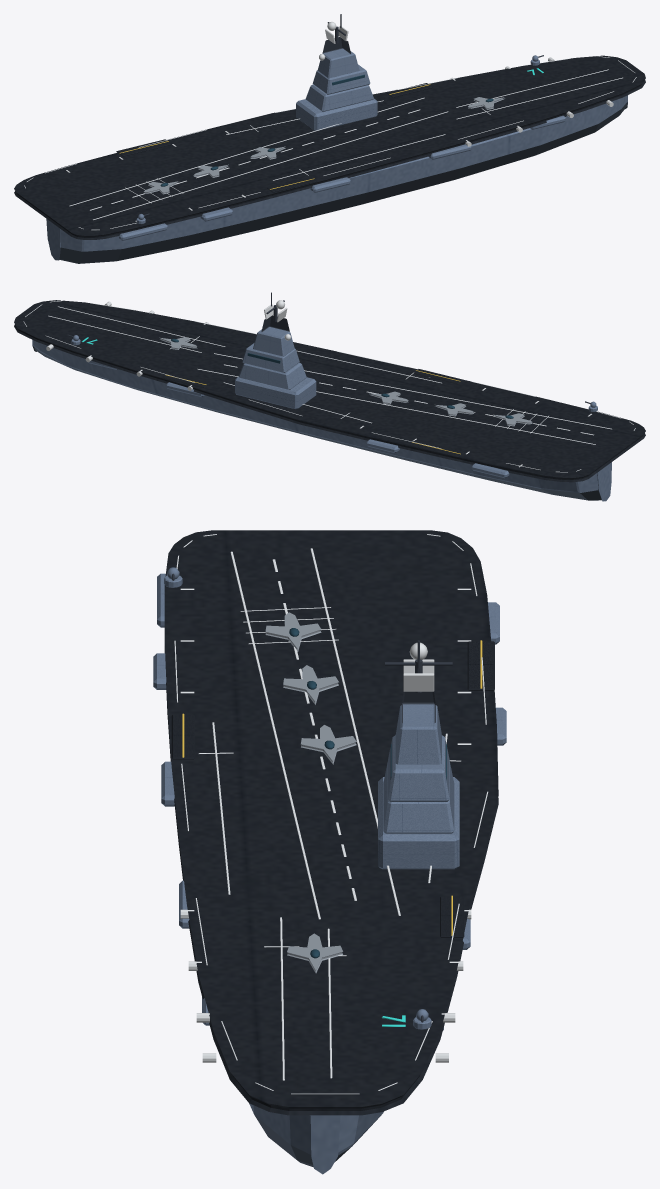
The model's file is carrier-blender.glb.
The picture shows the model from 3 angles, top to bottom: view 1: azimuth 30°, elevation 25°; view 2: azimuth 150°, elevation 25°; view 3: azimuth 270°, elevation 25°; orthographic projection. The views are drawn at different scales.
Visible parts, largest first — view 1: Carrier_Flight_Deck, Carrier_Hull, Island_Deckhouse, Island_Lower, Island_Upper, Island_Bridge, Recovery_Edge_Port, Recovery_Edge_Starboard, Carrier_Elevator_1, Carrier_Sponson_00; view 2: Carrier_Flight_Deck, Carrier_Hull, Island_Deckhouse, Island_Lower, Island_Upper, Island_Bridge, Recovery_Edge_Port, Recovery_Edge_Starboard, Carrier_Elevator_1; view 3: Carrier_Flight_Deck, Carrier_Hull, Island_Deckhouse, Island_Upper, Island_Bridge, Island_Lower, Carrier_Elevator_1, Recovery_Edge_Port, Carrier_Elevator_3, Carrier_Elevator_2, Recovery_Edge_Starboard, Aircraft_01.
Boxes of the visible parts, left/top/right/bottom form: Carrier_Flight_Deck: left=14, top=55, right=645, bottom=239; Carrier_Hull: left=46, top=95, right=627, bottom=263; Island_Deckhouse: left=296, top=98, right=377, bottom=130; Island_Lower: left=305, top=84, right=373, bottom=111; Island_Upper: left=317, top=48, right=359, bottom=78; Island_Bridge: left=312, top=64, right=370, bottom=94; Recovery_Edge_Port: left=93, top=111, right=448, bottom=220; Recovery_Edge_Starboard: left=69, top=97, right=424, bottom=206; Carrier_Elevator_1: left=116, top=139, right=171, bottom=156; Carrier_Sponson_00: left=119, top=223, right=167, bottom=240; Carrier_Flight_Deck: left=14, top=300, right=645, bottom=482; Carrier_Hull: left=32, top=340, right=611, bottom=501; Island_Deckhouse: left=235, top=376, right=316, bottom=409; Island_Lower: left=238, top=362, right=306, bottom=389; Island_Upper: left=253, top=327, right=294, bottom=356; Island_Bridge: left=242, top=343, right=299, bottom=372; Recovery_Edge_Port: left=214, top=353, right=611, bottom=429; Recovery_Edge_Starboard: left=197, top=369, right=595, bottom=444; Carrier_Elevator_1: left=409, top=440, right=463, bottom=457; Carrier_Flight_Deck: left=164, top=530, right=498, bottom=1115; Carrier_Hull: left=249, top=1103, right=383, bottom=1174; Island_Deckhouse: left=378, top=777, right=459, bottom=869; Island_Upper: left=395, top=704, right=441, bottom=764; Island_Bridge: left=388, top=735, right=449, bottom=801; Island_Lower: left=383, top=762, right=454, bottom=833; Carrier_Elevator_1: left=467, top=641, right=494, bottom=690; Recovery_Edge_Port: left=230, top=551, right=320, bottom=919; Carrier_Elevator_3: left=171, top=714, right=194, bottom=759; Carrier_Elevator_2: left=440, top=896, right=464, bottom=937; Recovery_Edge_Starboard: left=310, top=548, right=400, bottom=915; Aircraft_01: left=265, top=612, right=321, bottom=651.
Size of the model in its own units: 50.24 by 12.4 by 13.02.
10 materials, 2 textured.
